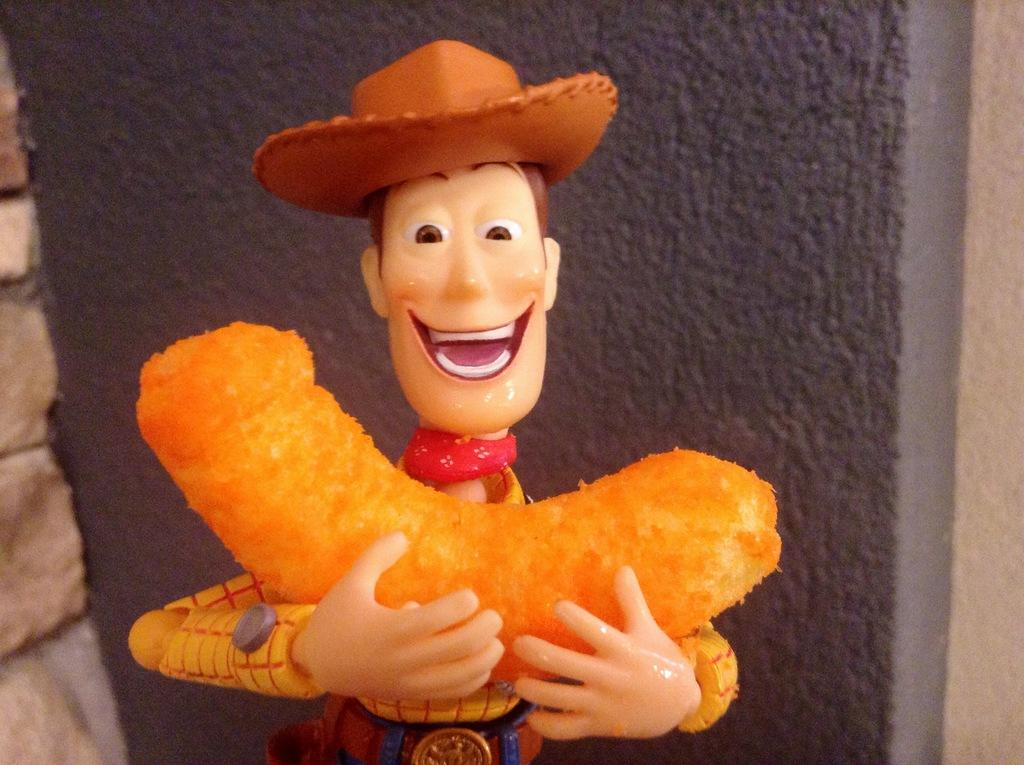Hat: (248, 33, 620, 222)
